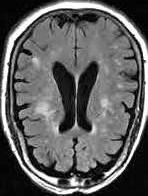Normal_Brain: (2, 2, 148, 196)
